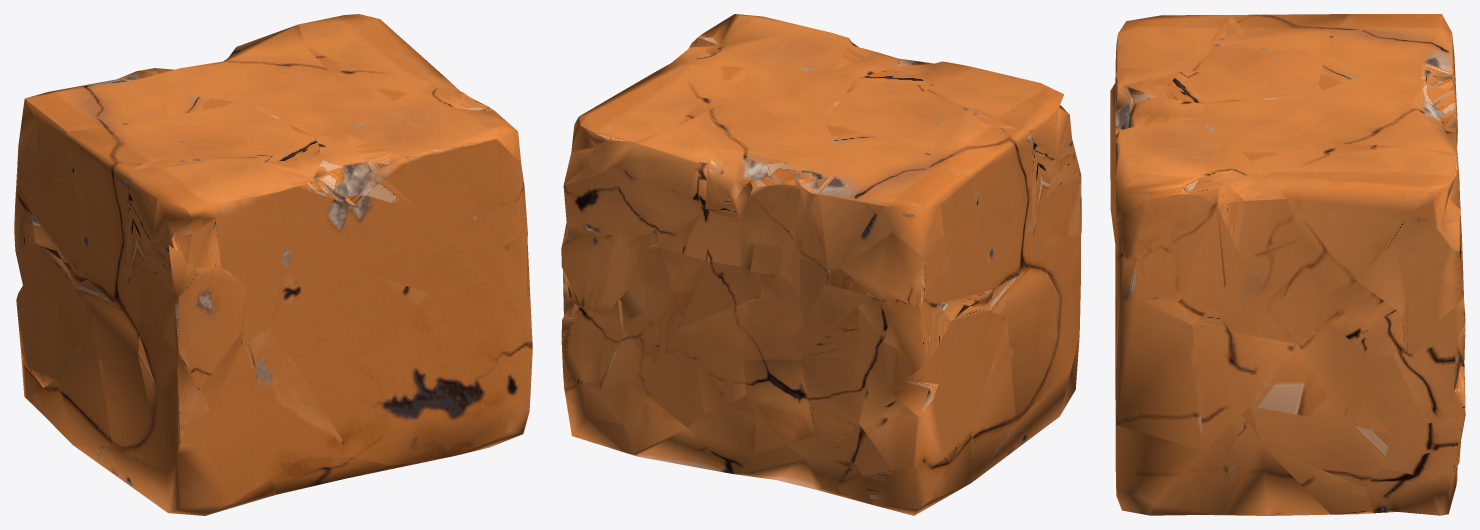
Rendered from cover_half_ruins_v1_lod1.glb.
3 views of the same model, side by side, from view 1: azimuth 30°, elevation 25°; view 2: azimuth 150°, elevation 25°; view 3: azimuth 270°, elevation 25° (orthographic). The views are drawn at different scales.
Bounding box in the file's own units: 0.9676 × 0.8 × 0.7811.
1 material, 1 textured.
